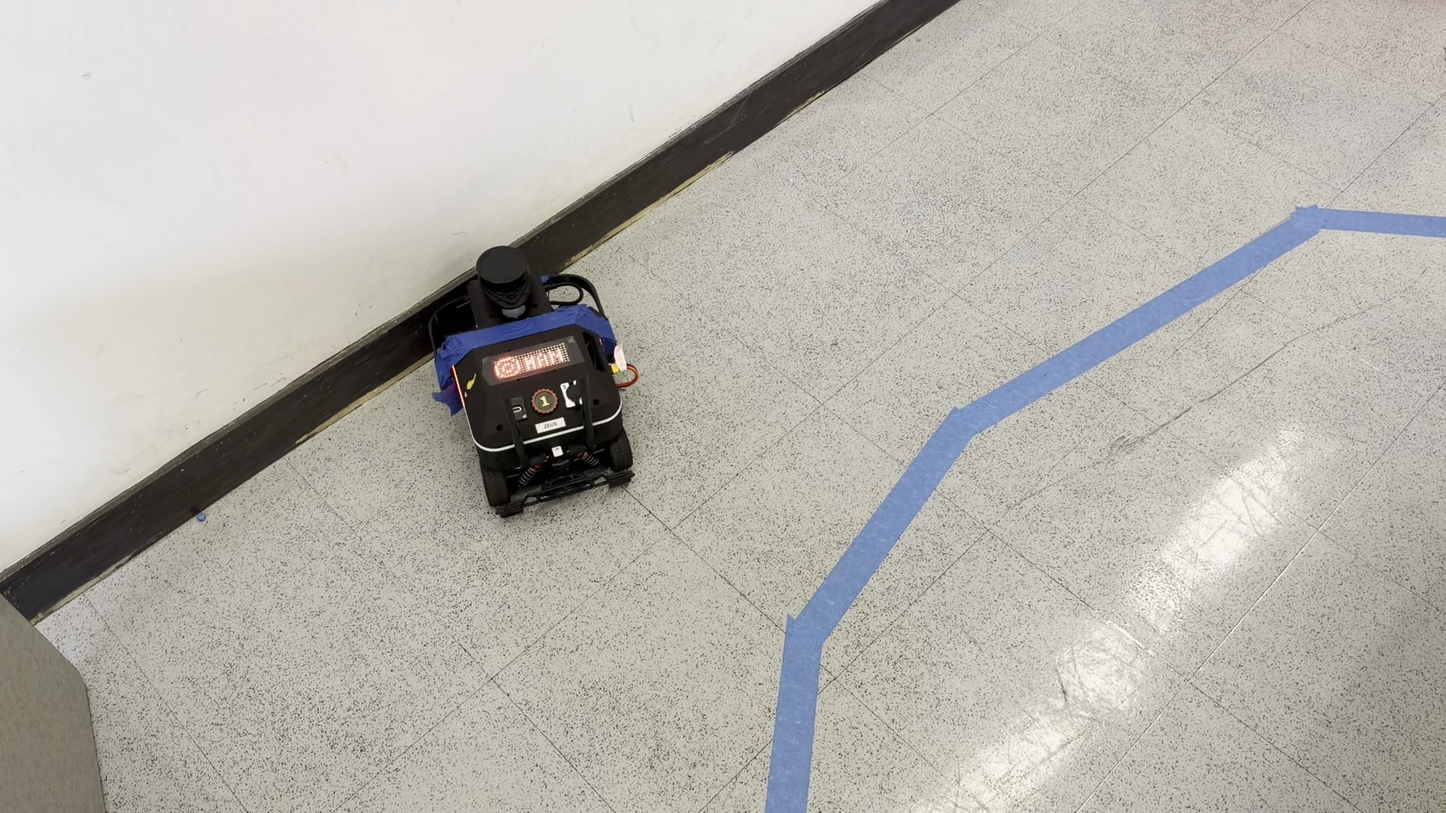racecar: (429, 250, 639, 517)
